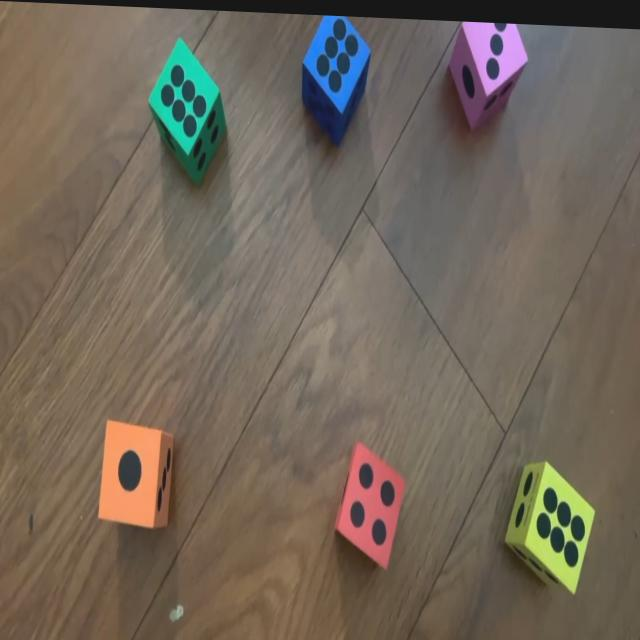cube: (150, 30, 226, 182), (334, 433, 405, 565), (304, 11, 371, 138)
